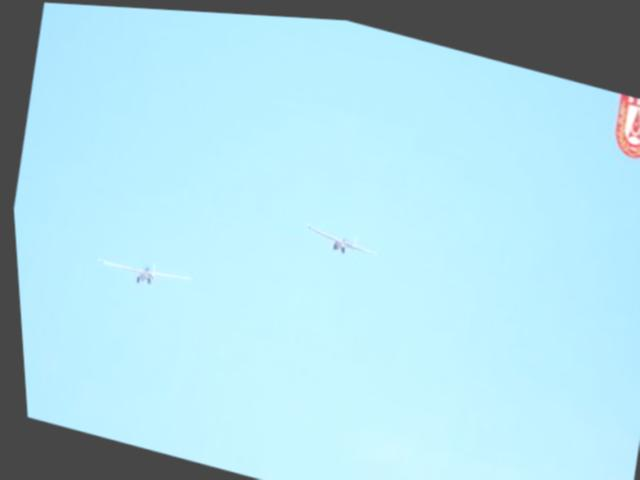uav: (87, 243, 197, 300), (298, 211, 385, 261)
